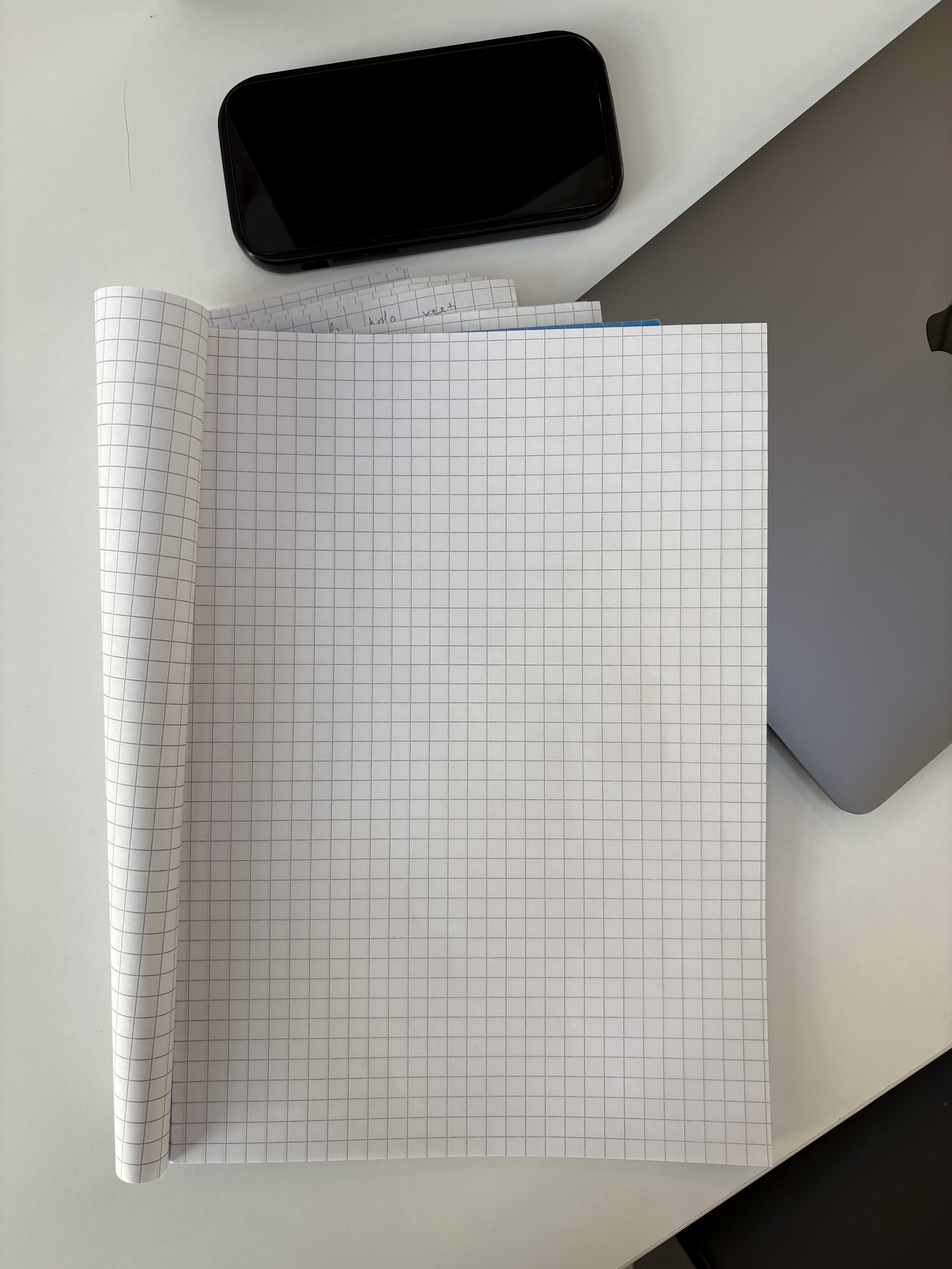paper: (87, 276, 785, 1185)
